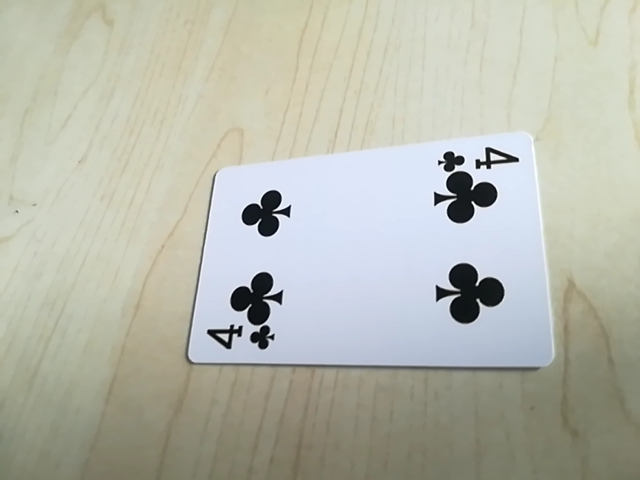mh 4: (434, 142, 522, 173), (199, 323, 279, 357)
